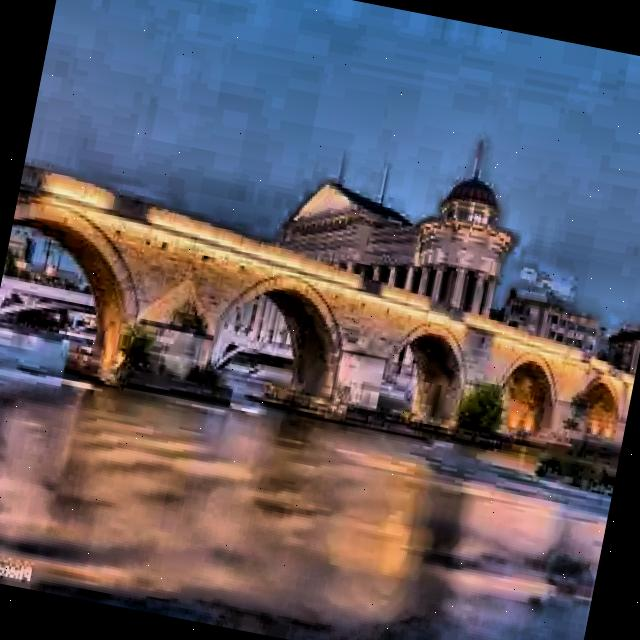stone bridge: (0, 160, 640, 495)
